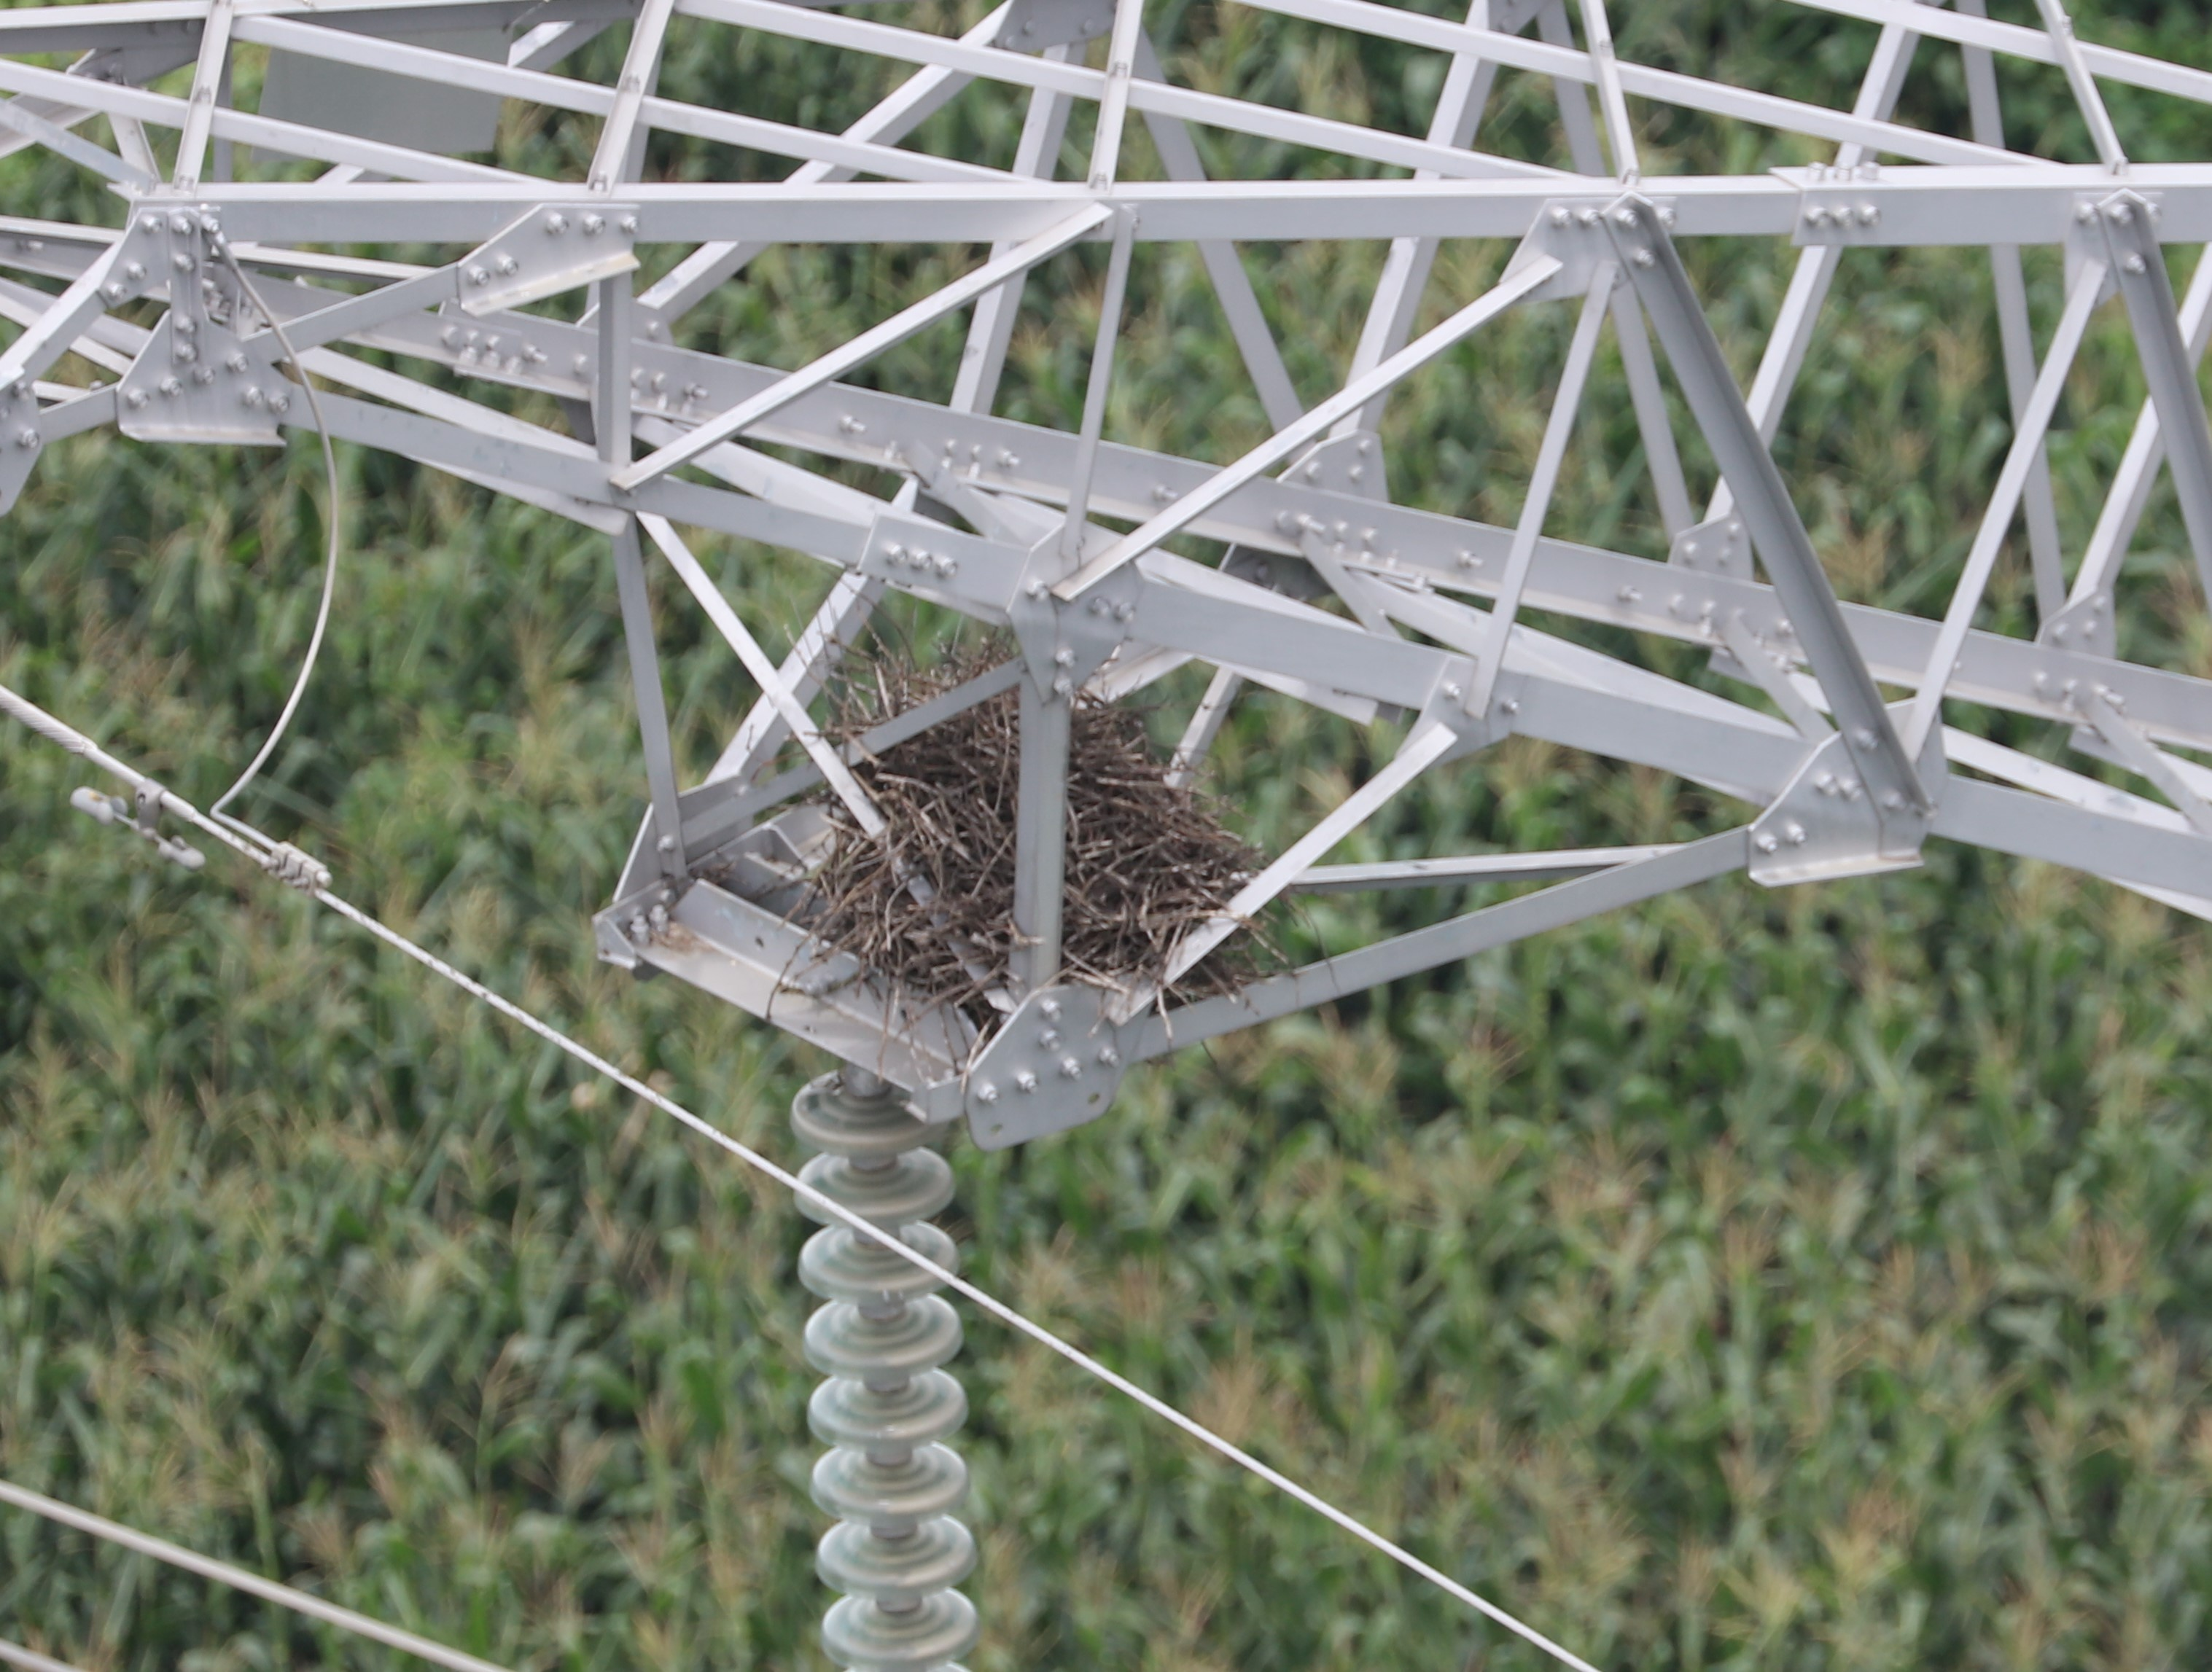niaowo: (777, 608, 1290, 1078)
